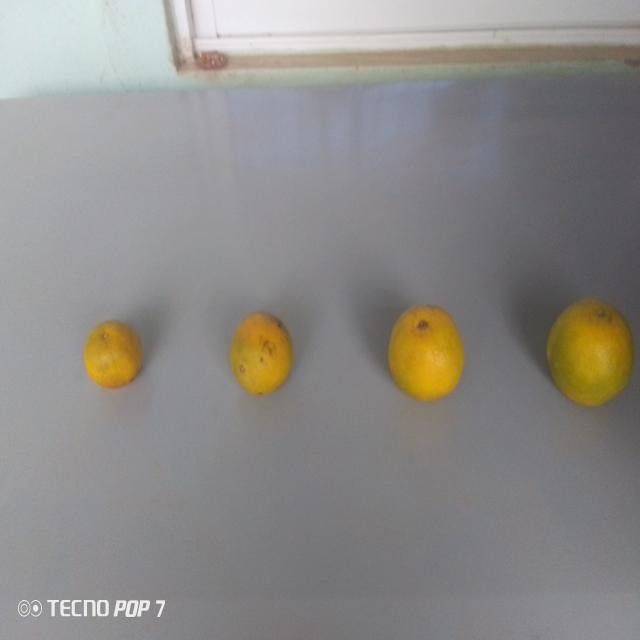Ripe orange: (542, 290, 638, 413), (380, 294, 476, 412), (221, 298, 309, 413), (80, 303, 146, 399)
